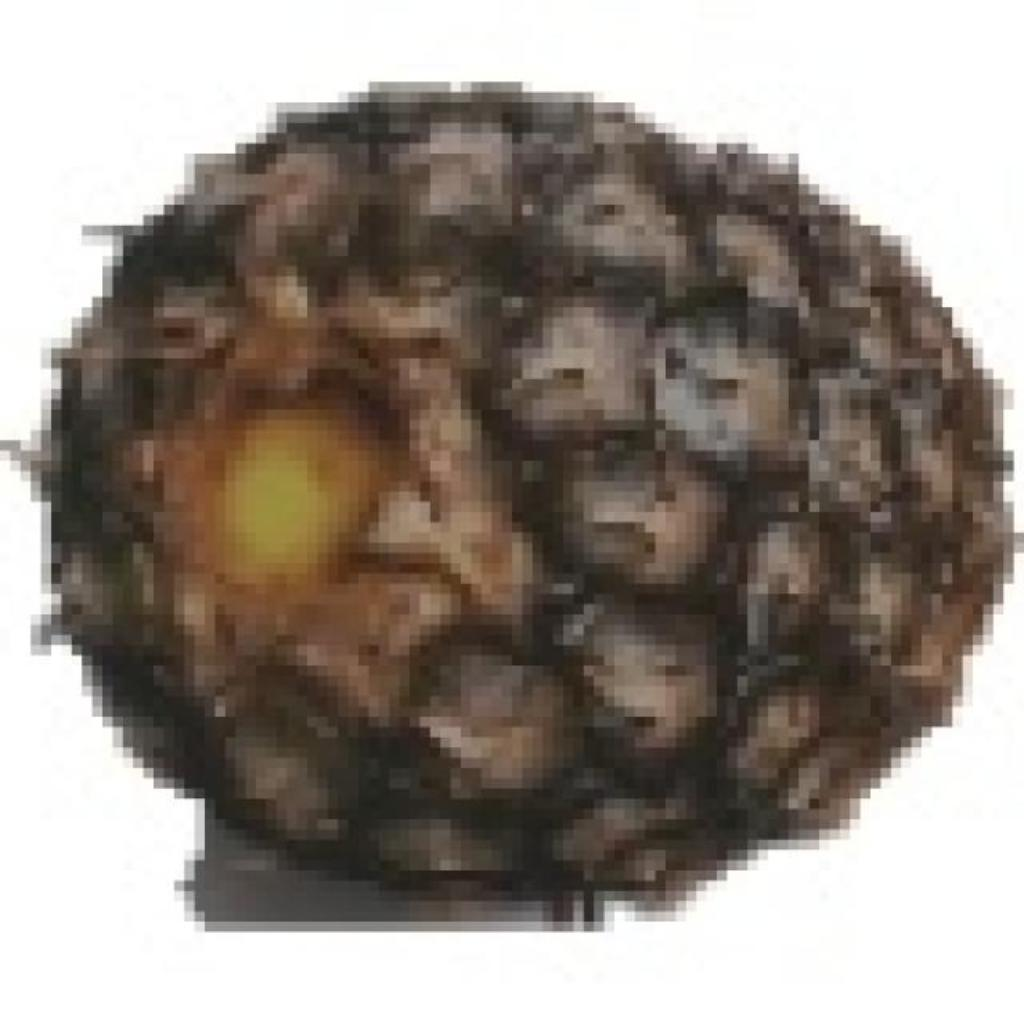pineapple: (61, 72, 1024, 901)
